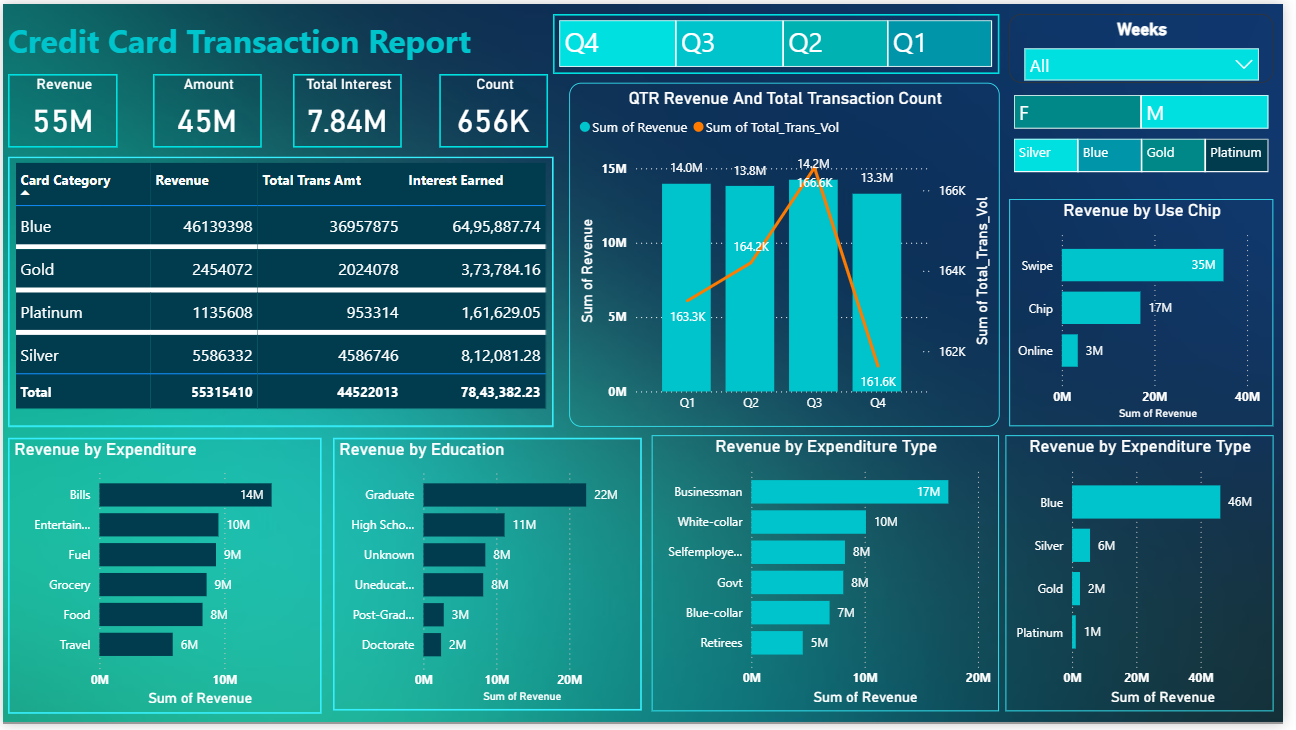

What the dashboard file says about the page in this screenshot:
{"tool":"powerbi","page":{"name":"CC Transaction","canvas":[1280,720],"ordinal":0},"visuals":[{"type":"textbox","box":[0,9.7,491,60.3],"z":0},{"type":"lineStackedColumnComboChart","title":"QTR Revenue And Total Transaction Count","fields":{"Category":["credit_card.Qtr"],"Y2":["Sum(credit_card.Total_Trans_Vol)"],"Y":["Sum(credit_card.Revenue)"]},"box":[565.8,78.4,430.7,343.8],"z":1000},{"type":"barChart","title":"Revenue by Expenditure","fields":{"Category":["credit_card.Exp Type"],"Y":["Sum(credit_card.Revenue)"]},"box":[4.8,434.3,313.7,276.3],"z":2000},{"type":"barChart","title":"Revenue by Education","fields":{"Category":["customer.Education_Level"],"Y":["Sum(credit_card.Revenue)"]},"box":[330.6,434.3,308.8,272.7],"z":3000},{"type":"barChart","title":"Revenue by Expenditure Type","fields":{"Category":["customer.Customer_Job"],"Y":["Sum(credit_card.Revenue)"]},"box":[649.1,430.7,347.5,276.3],"z":4000},{"type":"barChart","title":"Revenue by Expenditure Type","fields":{"Category":["credit_card.Card_Category"],"Y":["Sum(credit_card.Revenue)"]},"box":[1002.6,430.7,267.8,276.3],"z":5000},{"type":"barChart","title":"Revenue by Use Chip","fields":{"Category":["credit_card.Use Chip"],"Y":["Sum(credit_card.Revenue)"]},"box":[1006.2,195.4,264.2,226.8],"z":6000},{"type":"tableEx","fields":{"Values":["credit_card.Card_Category","Sum(credit_card.Revenue)","Sum(credit_card.Total_Trans_Amt)","Sum(credit_card.Interest_Earned)"]},"box":[4.8,152,545.3,270.2],"z":7000},{"type":"card","title":"Revenue","fields":{"Values":["Sum(credit_card.Revenue)"]},"box":[4.8,70,109.8,73.6],"z":8000},{"type":"card","title":"Amount","fields":{"Values":["Sum(credit_card.Total_Trans_Amt)"]},"box":[149.6,70,108.6,73.6],"z":9000},{"type":"card","title":"Total Interest  ","fields":{"Values":["Sum(credit_card.Interest_Earned)"]},"box":[289.5,70,108.6,73.6],"z":10000},{"type":"card","title":"Count","fields":{"Values":["Sum(credit_card.Total_Trans_Vol)"]},"box":[436.7,70,108.6,73.6],"z":11000},{"type":"slicer","title":"Weeks","fields":{"Values":["credit_card.Week_Start_date"]},"box":[1006.2,9.7,264.2,68.8],"z":12000},{"type":"treemap","fields":{"Group":["credit_card.Qtr"],"Values":["Avg(credit_card.Client_Num)"]},"box":[550.1,9.7,446.4,60.3],"z":13000},{"type":"treemap","fields":{"Group":["customer.Gender"],"Values":["Avg(credit_card.Client_Num)"]},"box":[1006.2,86.9,264.2,43.4],"z":14000},{"type":"treemap","fields":{"Group":["credit_card.Card_Category"],"Values":["Avg(credit_card.Client_Num)"]},"box":[1006.2,130.3,264.2,43],"z":15000}]}

Visuals, with their boxes in screenshot pixels (x1, y1, x2, y2), scaled from the page's 1280x720 canvas onto the 1296x730 screenshot:
textbox: pyautogui.locateOnScreen(0, 10, 497, 71)
"QTR Revenue And Total Transaction Count" lineStackedColumnComboChart: pyautogui.locateOnScreen(573, 79, 1009, 428)
"Revenue by Expenditure" barChart: pyautogui.locateOnScreen(5, 440, 322, 720)
"Revenue by Education" barChart: pyautogui.locateOnScreen(335, 440, 647, 717)
"Revenue by Expenditure Type" barChart: pyautogui.locateOnScreen(657, 437, 1009, 717)
"Revenue by Expenditure Type" barChart: pyautogui.locateOnScreen(1015, 437, 1286, 717)
"Revenue by Use Chip" barChart: pyautogui.locateOnScreen(1019, 198, 1286, 428)
tableEx - credit_card.Card_Category x Sum(credit_card.Revenue): pyautogui.locateOnScreen(5, 154, 557, 428)
"Revenue" card: pyautogui.locateOnScreen(5, 71, 116, 146)
"Amount" card: pyautogui.locateOnScreen(151, 71, 261, 146)
"Total Interest  " card: pyautogui.locateOnScreen(293, 71, 403, 146)
"Count" card: pyautogui.locateOnScreen(442, 71, 552, 146)
"Weeks" slicer: pyautogui.locateOnScreen(1019, 10, 1286, 80)
treemap - credit_card.Qtr x Avg(credit_card.Client_Num): pyautogui.locateOnScreen(557, 10, 1009, 71)
treemap - customer.Gender x Avg(credit_card.Client_Num): pyautogui.locateOnScreen(1019, 88, 1286, 132)
treemap - credit_card.Card_Category x Avg(credit_card.Client_Num): pyautogui.locateOnScreen(1019, 132, 1286, 176)
